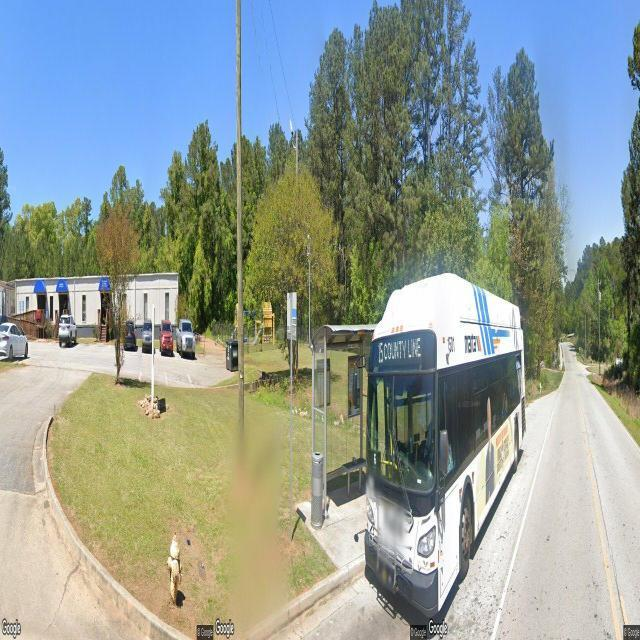seating: (342, 457, 366, 497)
shelter: (311, 322, 384, 514)
trash_can: (311, 451, 324, 530)
